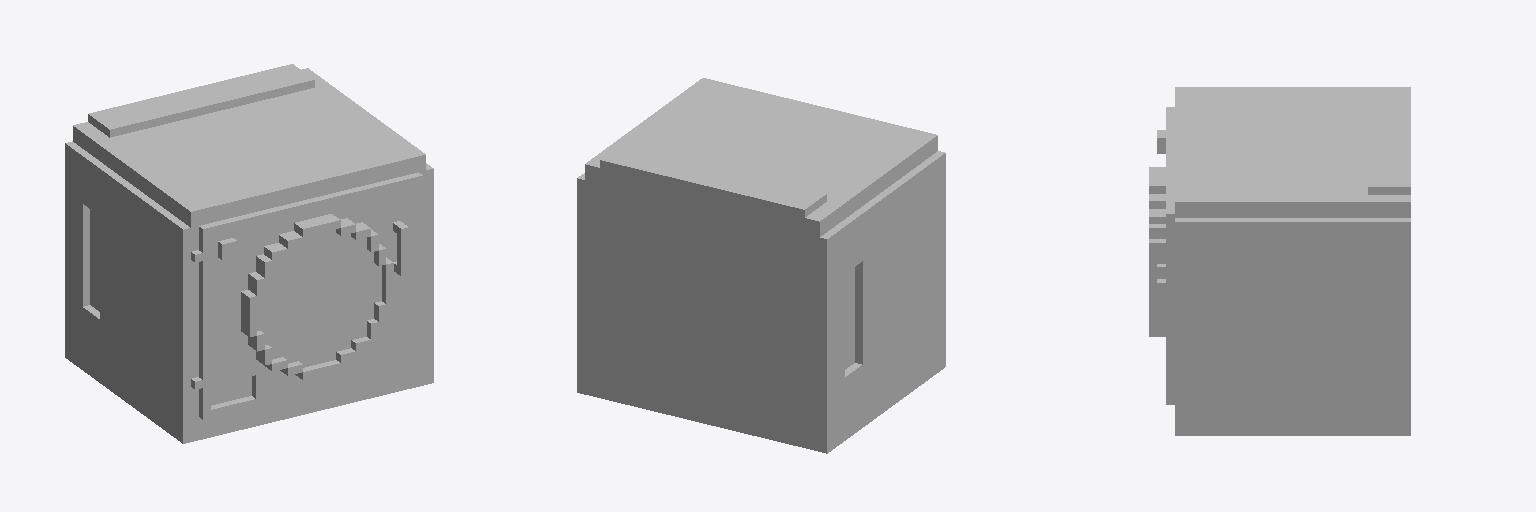
Rendered from Washing Machine.obj.
3 renders of one model, left to right at view 1: azimuth 30°, elevation 25°; view 2: azimuth 150°, elevation 25°; view 3: azimuth 270°, elevation 25°, orthographic.
Visible parts, largest first — view 1: object 1; view 2: object 1; view 3: object 1.
Boxes of the visible parts, <box> form: object 1: <box>65,64,433,443</box>; object 1: <box>577,78,945,453</box>; object 1: <box>1149,87,1410,435</box>.
Bounding box in the file's own units: 3.3 × 3 × 3.